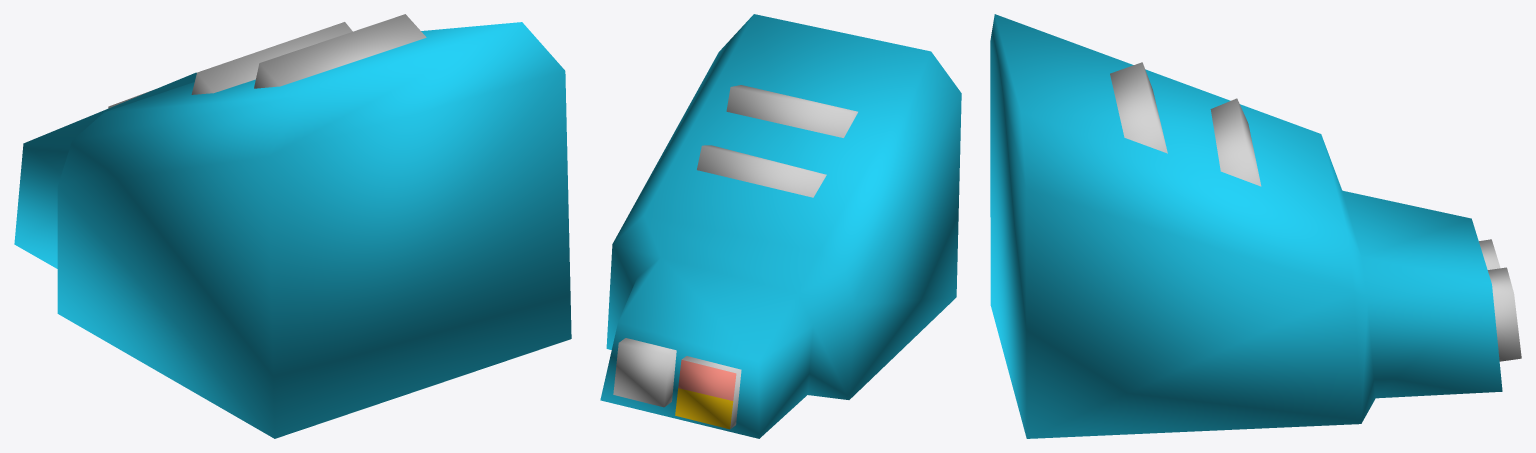
The model's file is foot_right.gltf.
3 views of the same model, side by side, from view 1: azimuth 30°, elevation 25°; view 2: azimuth 150°, elevation 25°; view 3: azimuth 270°, elevation 25° (orthographic). The views are drawn at different scales.
Parts seen in each view (by area): view 1: group241606376; view 2: group241606376; view 3: group241606376.
Boxes of the visible parts, left/top/right/bottom form: group241606376: left=14, top=14, right=571, bottom=438; group241606376: left=600, top=14, right=961, bottom=438; group241606376: left=990, top=14, right=1521, bottom=438.
Bounding box in the file's own units: 0.0945 × 0.0873 × 0.1341.
